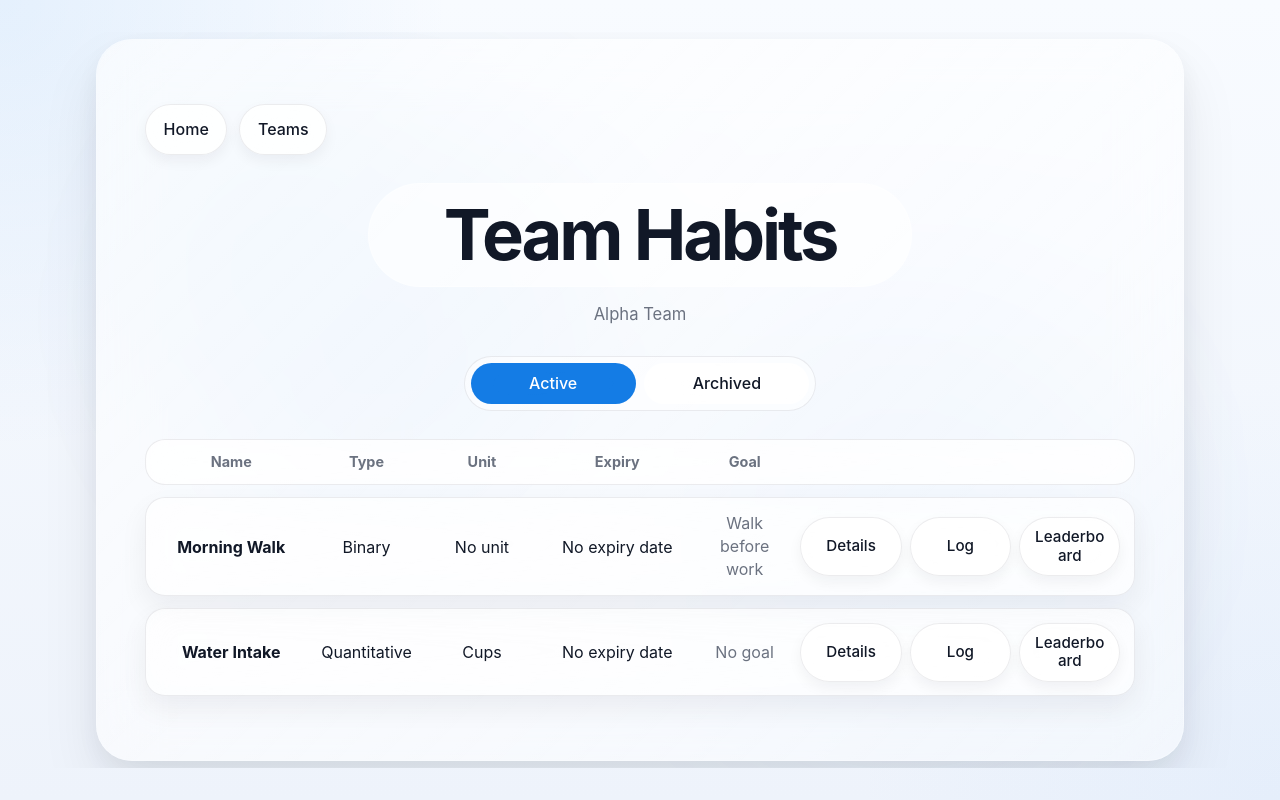
it: shows Log link only for active habits
Expected: the text "Morning Walk" is shown, [177,537,285,557]
Expected: the number of links "Log" is 2, [910,517,1011,576]; [910,623,1011,682]
Click the tab "Archived" at (727, 384), box [644,363,809,405]
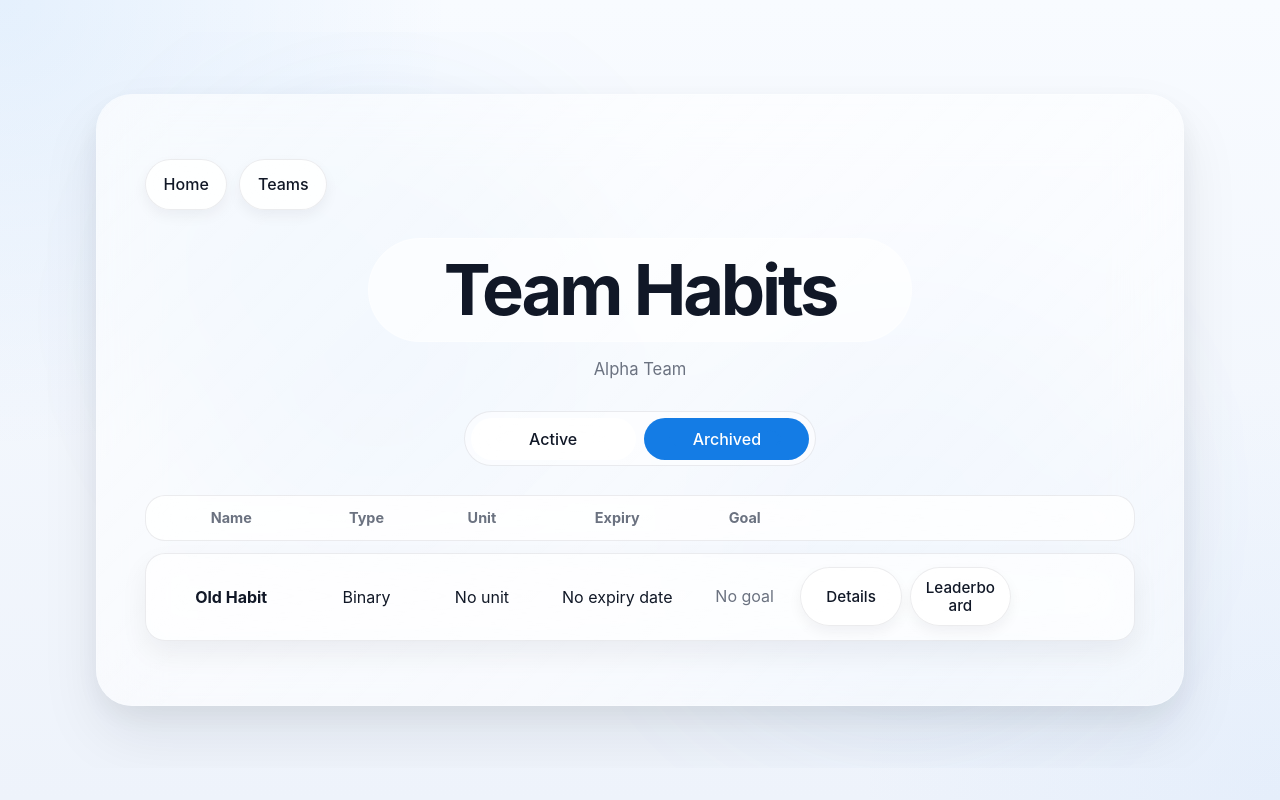
Expected: the text "Old Habit" is shown, [195,587,267,607]
Expected: the link "Log" is gone
